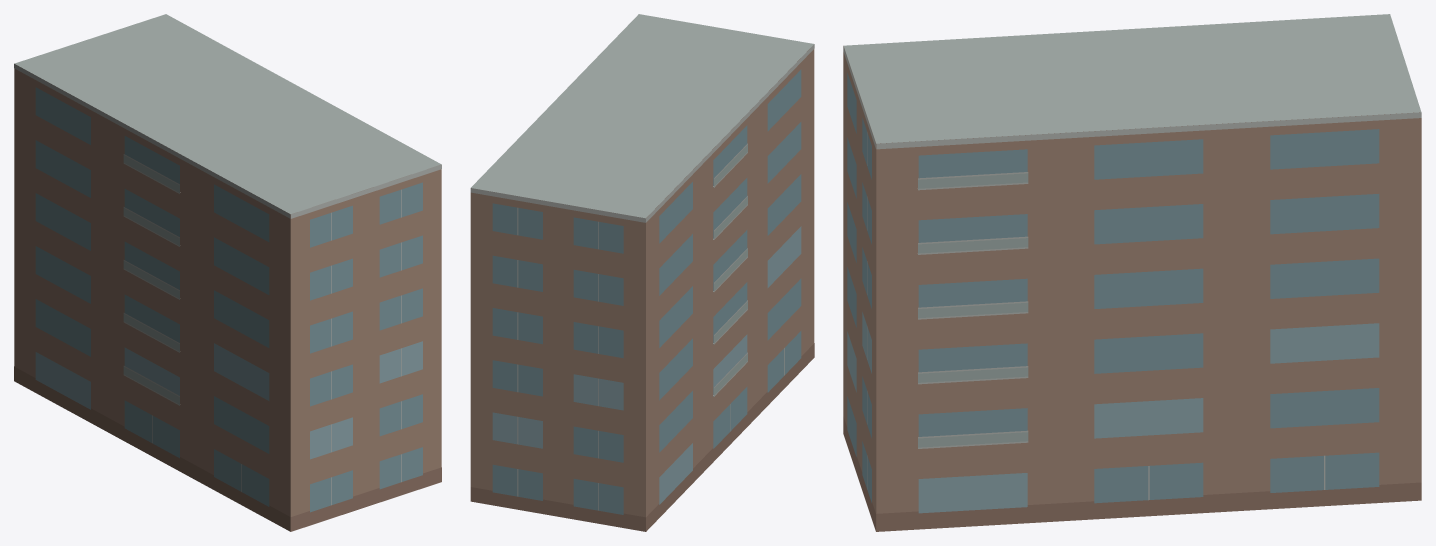
Rendered from survey-upis-32742062.glb.
3 views of the same model, side by side, from view 1: azimuth 30°, elevation 25°; view 2: azimuth 150°, elevation 25°; view 3: azimuth 270°, elevation 25° (orthographic). The views are drawn at different scales.
Parts seen in each view (by area): view 1: survey-upis-32742062.tmp; view 2: survey-upis-32742062.tmp; view 3: survey-upis-32742062.tmp.
Part boxes in pixels (box(x1,y1,x2,y2)): survey-upis-32742062.tmp: box(14, 14, 441, 531); survey-upis-32742062.tmp: box(470, 14, 814, 531); survey-upis-32742062.tmp: box(843, 14, 1421, 531).
Size of the model in its own units: 11.9 by 16.6 by 22.41.
